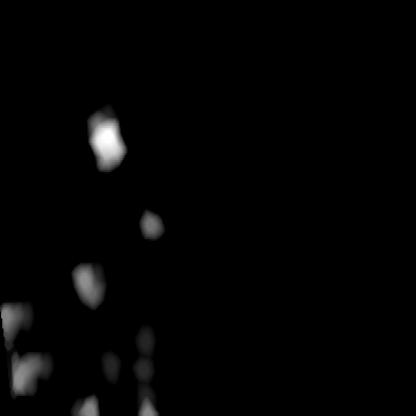fingers: (86, 108, 122, 170)
palm: (0, 310, 151, 414)
